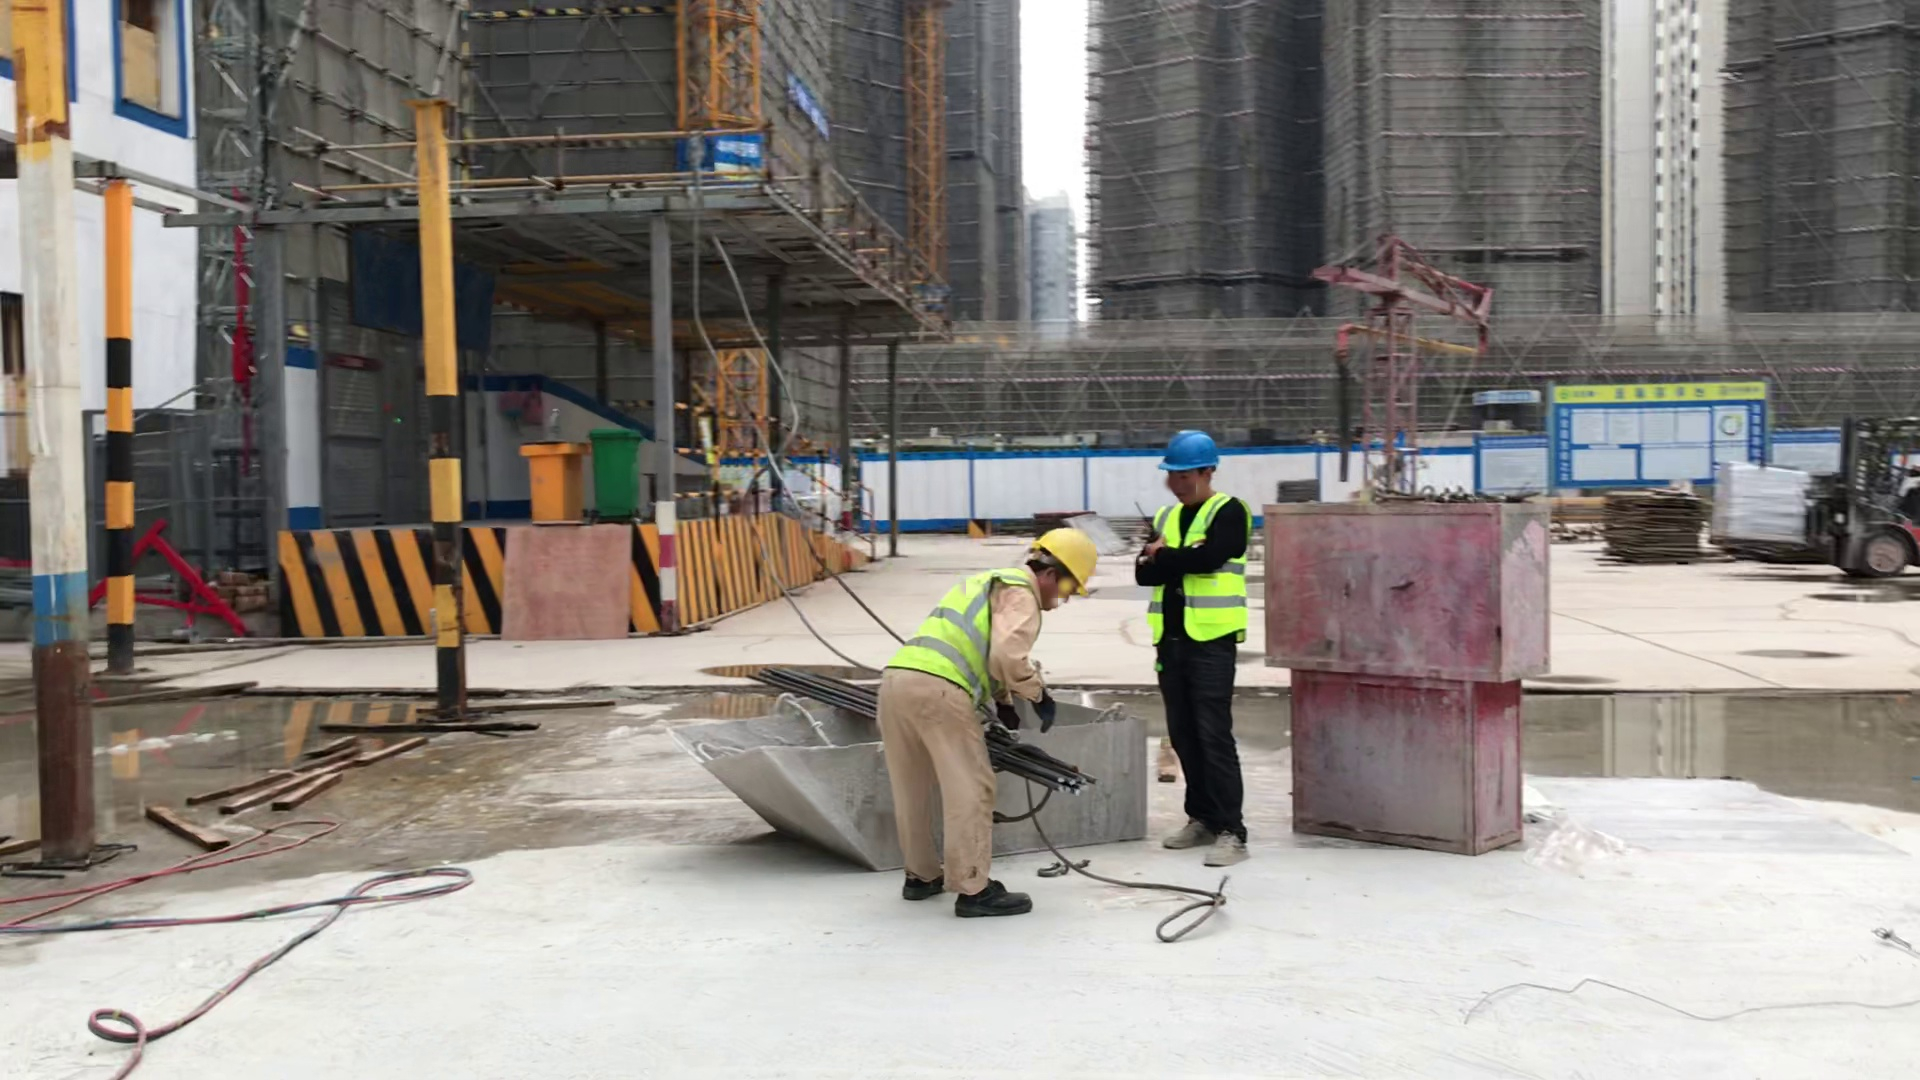board: (1601, 488, 1704, 561)
brick: (1704, 455, 1815, 545)
fence: (667, 395, 899, 554)
helmet: (1024, 510, 1109, 599), (1143, 419, 1239, 489)
hopper: (661, 681, 1158, 880)
person: (863, 510, 1113, 926), (1129, 418, 1290, 884)
rebar: (990, 735, 1113, 819), (746, 654, 881, 731)
slogan: (1546, 382, 1775, 496), (660, 123, 775, 188), (775, 65, 835, 155), (681, 405, 734, 478)
vest: (868, 565, 1040, 715), (1149, 491, 1257, 654)
